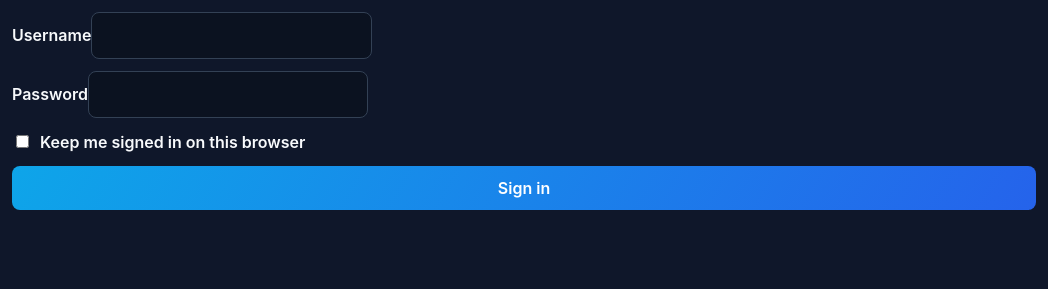
LoginForm › shows an error when credentials are missing
The width and height of the screenshot is (1048, 289).
Click the button with test id "login-submit" at (524, 188), box [12,166,1036,210]
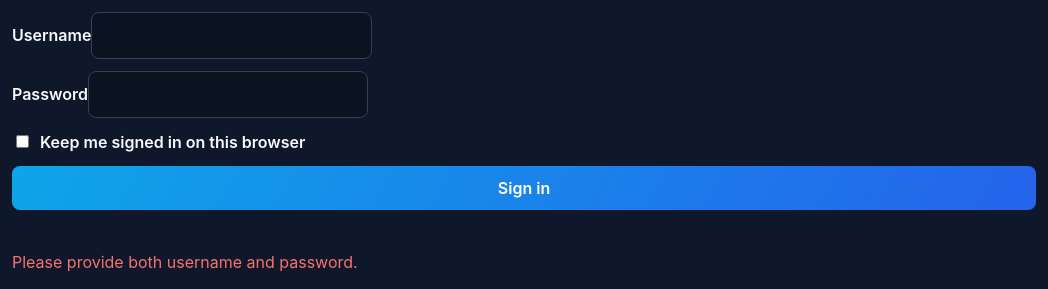
Check: the text "Please provide both username and password." is shown, box [12,252,358,272]
